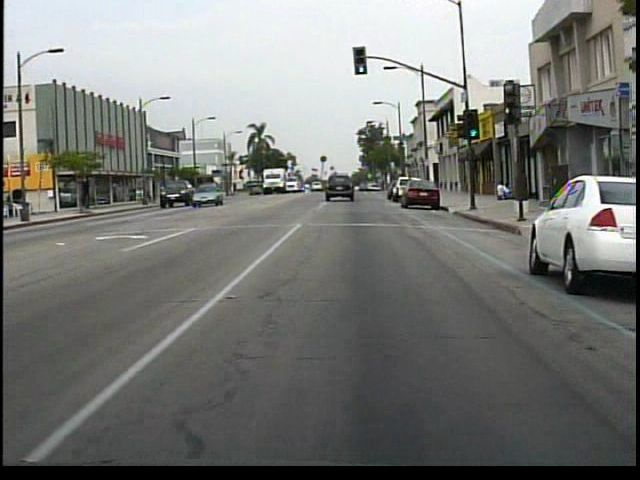person: (489, 178, 507, 202)
